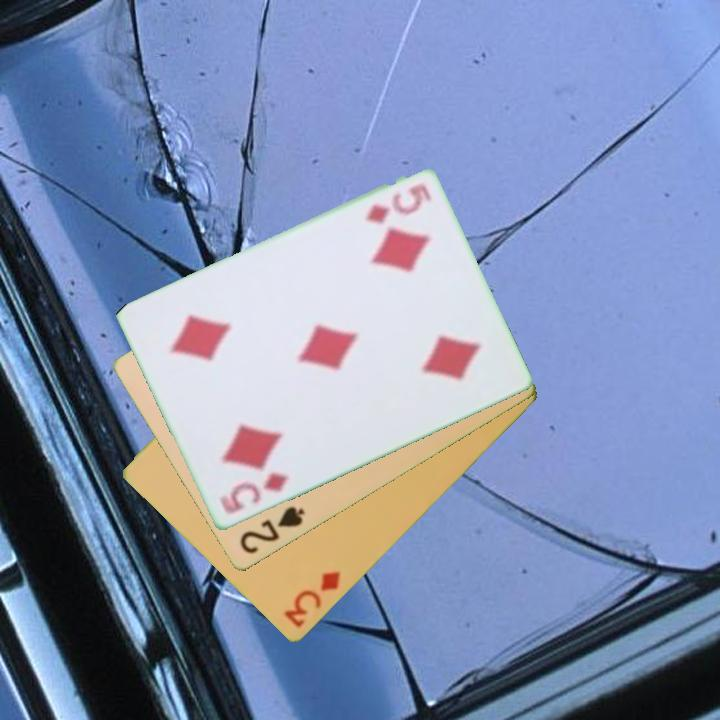2s: (236, 503, 308, 558)
3d: (280, 567, 344, 632)
5d: (216, 470, 292, 518), (361, 188, 426, 227)
